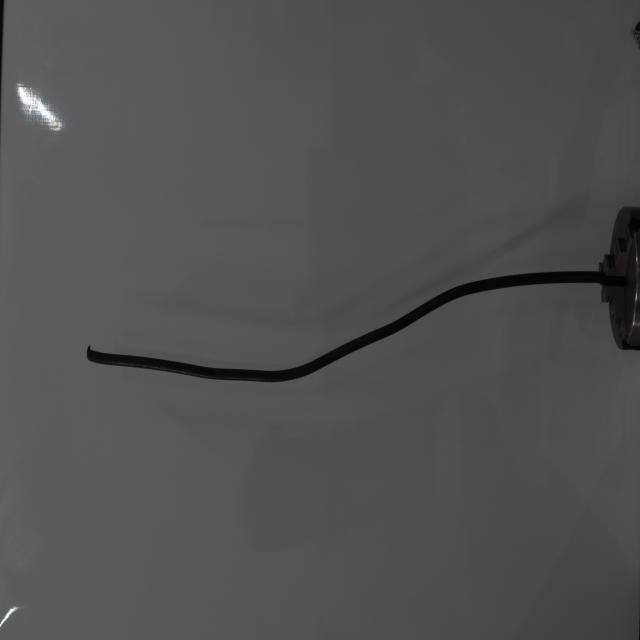plain round bar: (75, 266, 599, 389)
